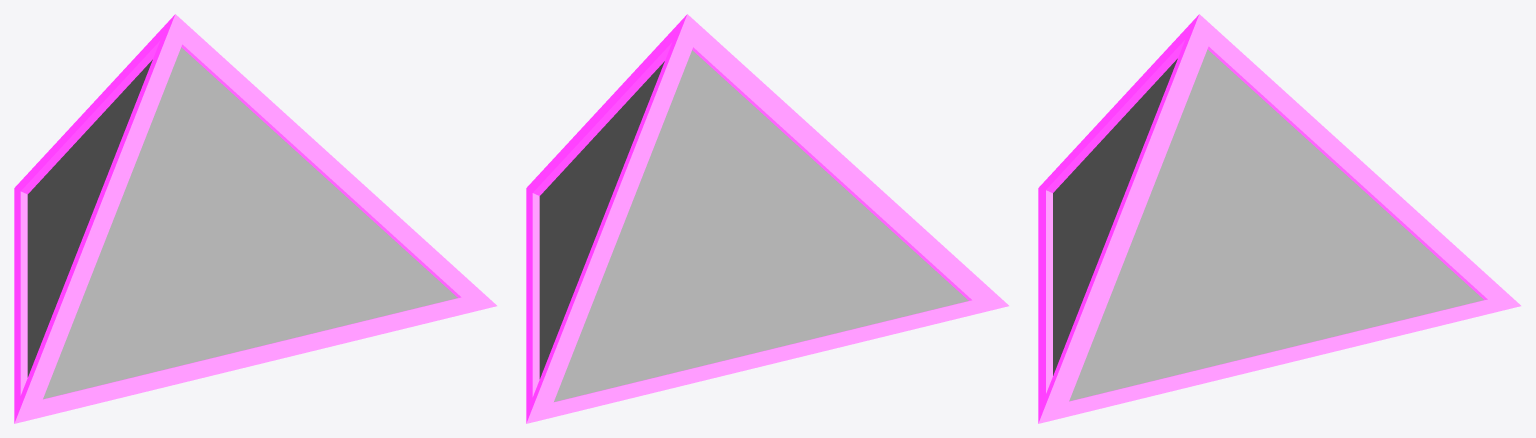
File: SFI0310009.fbx
The picture shows the model from 3 angles, left to right: view 1: azimuth 30°, elevation 25°; view 2: azimuth 150°, elevation 25°; view 3: azimuth 270°, elevation 25°; orthographic projection.
Parts seen in each view (by area): view 1: smSFI0310009; view 2: smSFI0310009; view 3: smSFI0310009.
Part boxes in pixels (x1,y1,x2,y2): smSFI0310009: (14, 14, 496, 423); smSFI0310009: (526, 14, 1008, 423); smSFI0310009: (1038, 14, 1520, 423).
Bounding box in the file's own units: 173 × 100 × 150.
